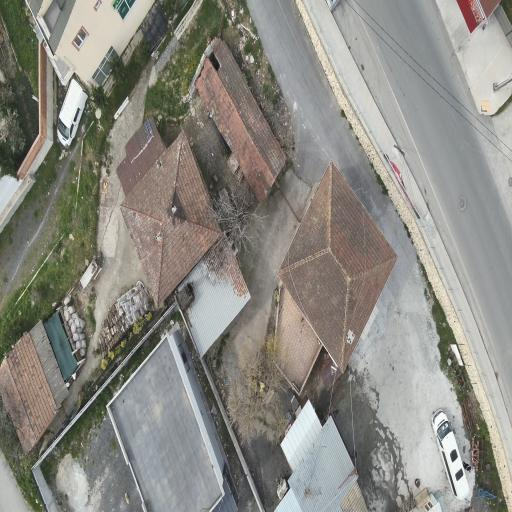car: (431, 410, 469, 499), (58, 79, 87, 147)
